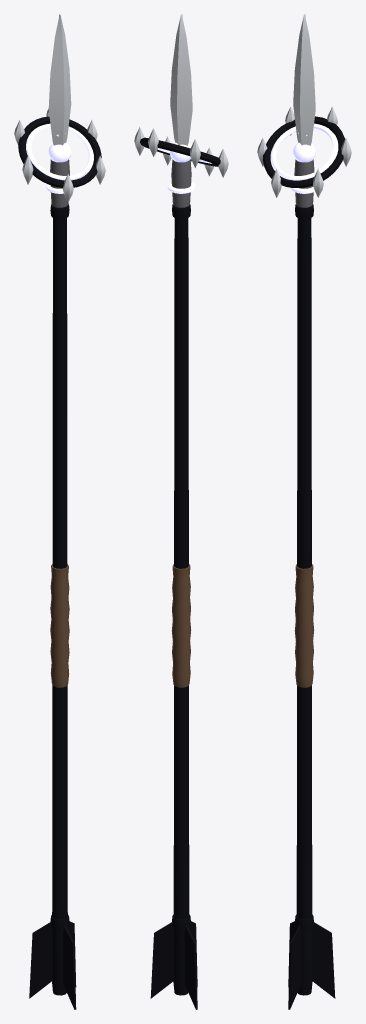
File: esc_w_knight_javelin_5.glb
The picture shows the model from 3 angles, left to right: view 1: azimuth 30°, elevation 25°; view 2: azimuth 150°, elevation 25°; view 3: azimuth 330°, elevation 25°; orthographic projection.
Visible parts, largest first — view 1: esc_w_knight_javelin_5; view 2: esc_w_knight_javelin_5; view 3: esc_w_knight_javelin_5.
Boxes of the visible parts, x1,y1,x2,y2 form: esc_w_knight_javelin_5: (14,14,105,1009); esc_w_knight_javelin_5: (134,14,228,1009); esc_w_knight_javelin_5: (257,14,351,1009).
Bounding box in the file's own units: 0.1472 × 1.66 × 0.1275.
